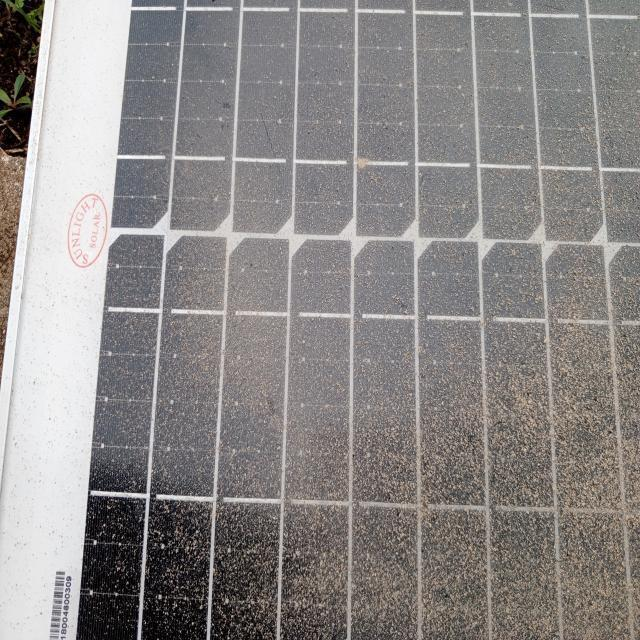Anomaly Solar Panel: (80, 6, 640, 612)
Surface Contaminant: (81, 6, 639, 612)
